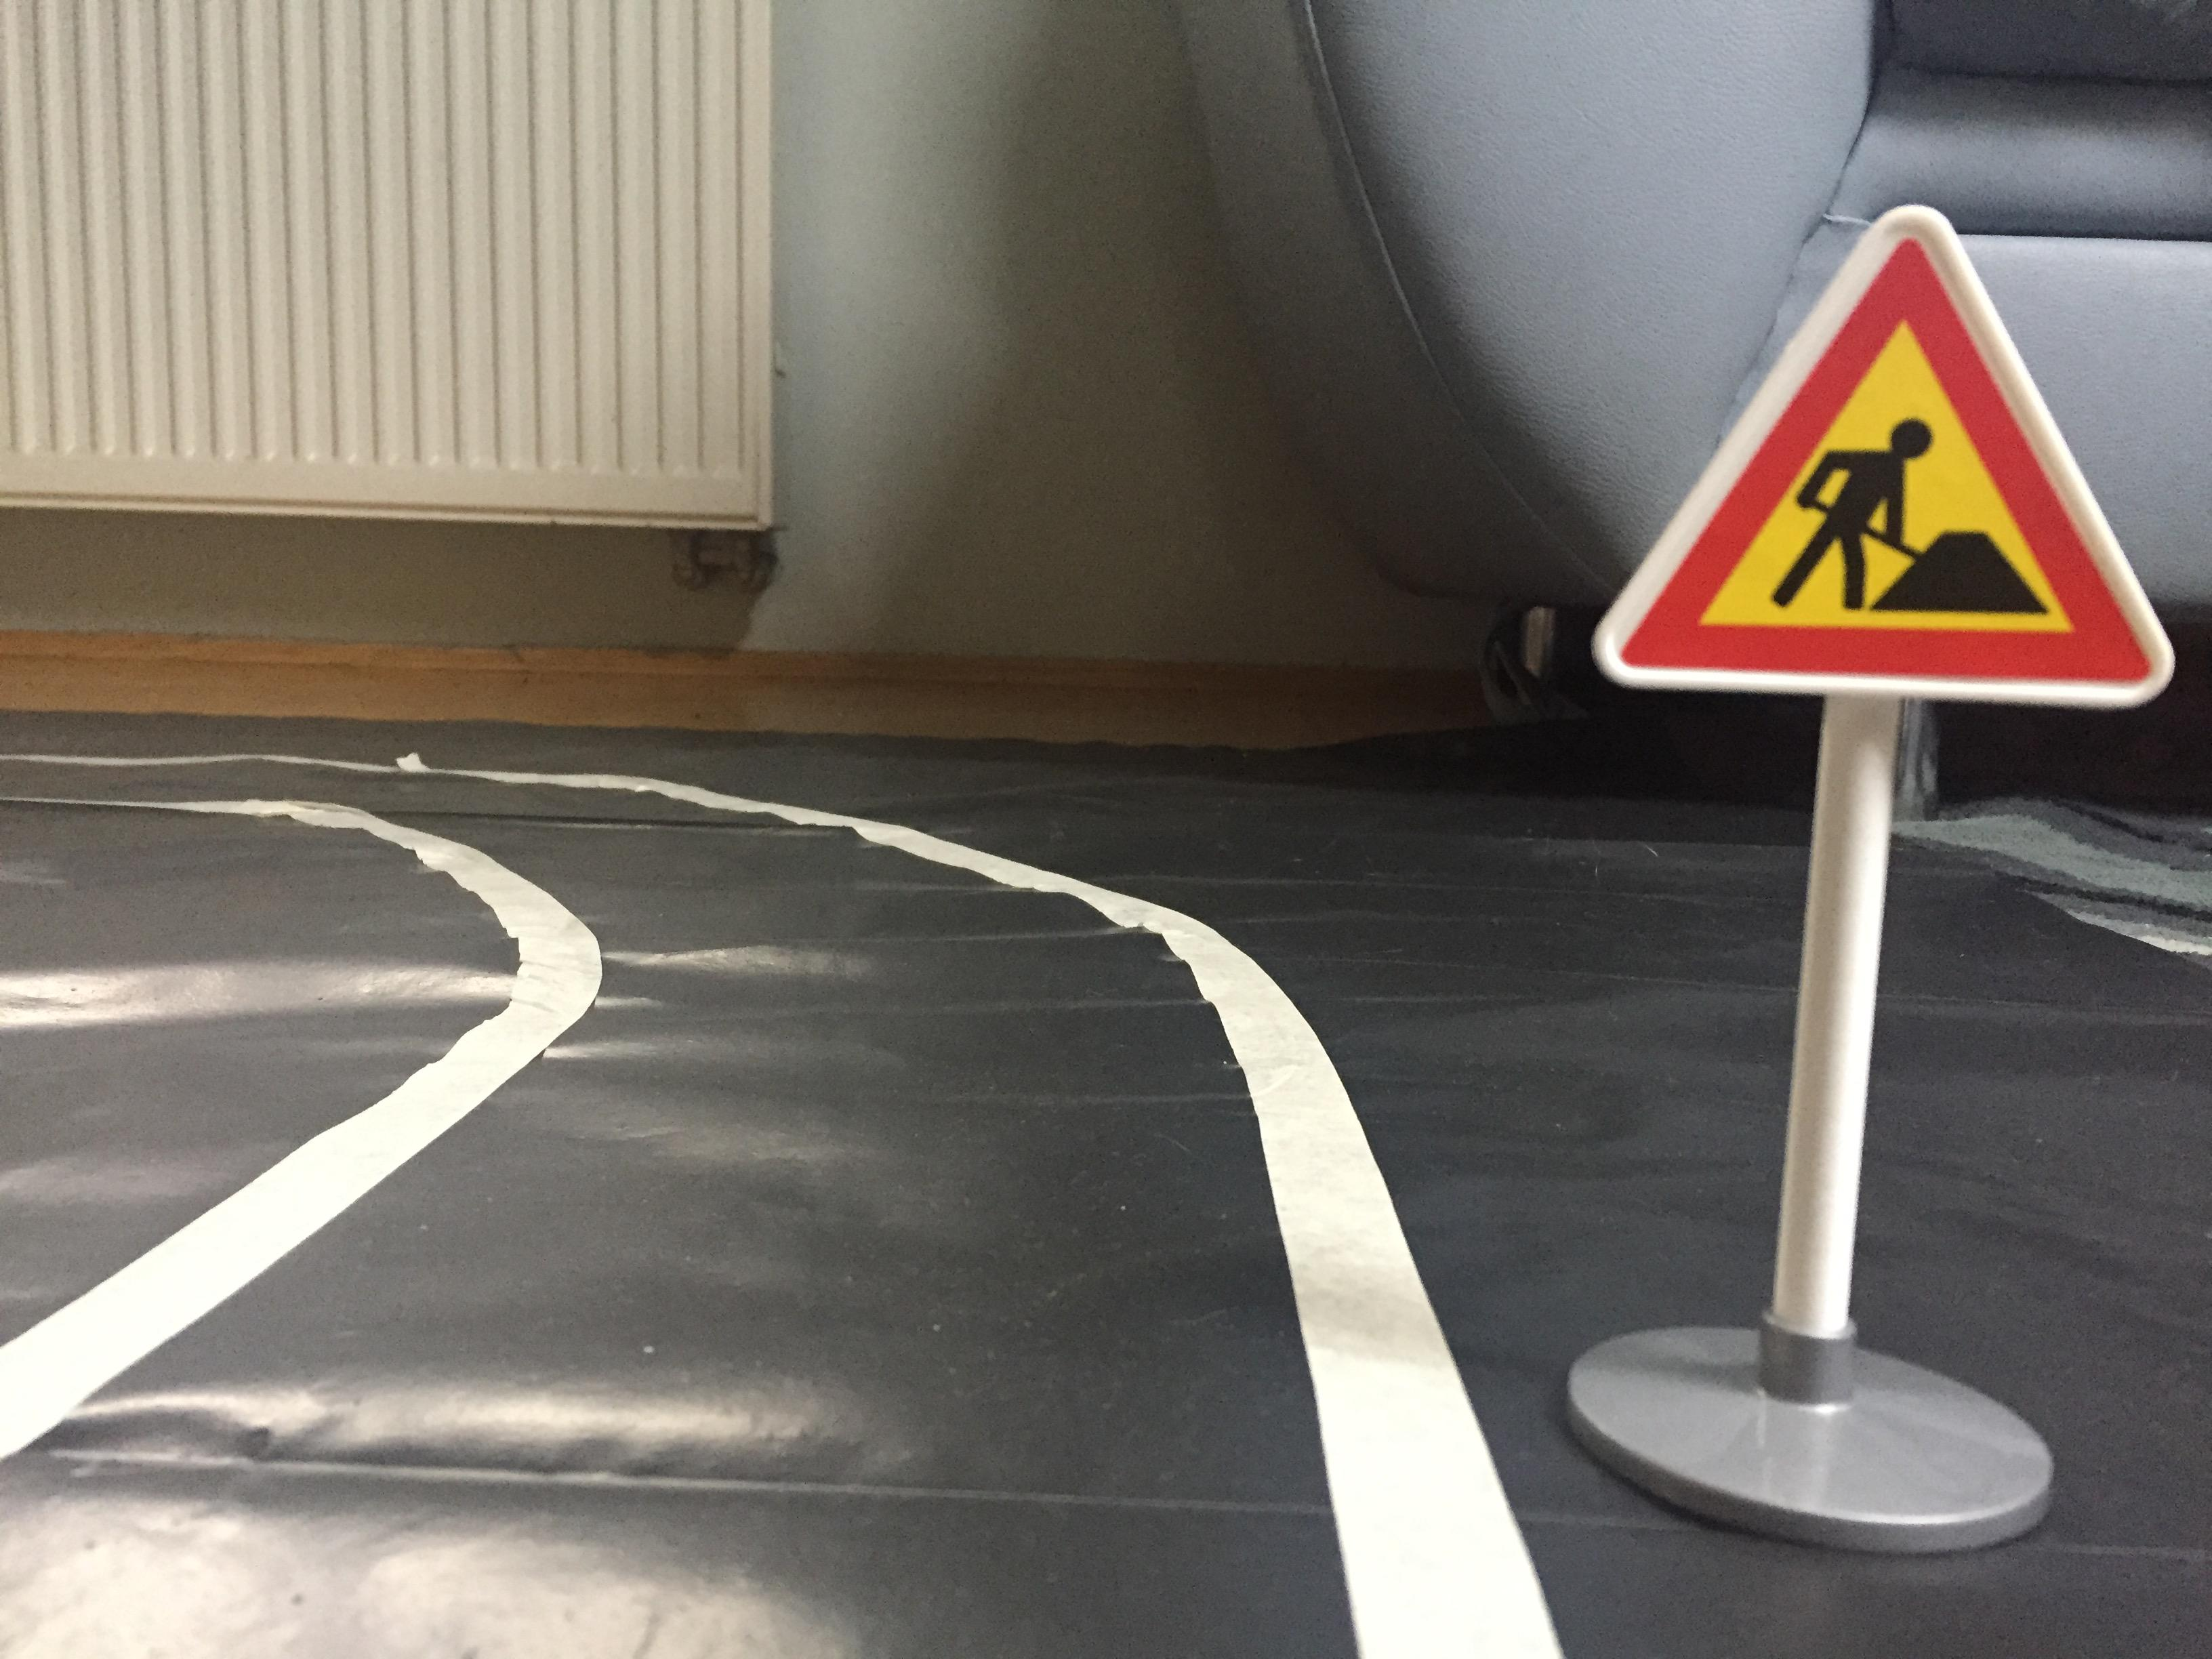work: (1576, 188, 2182, 713)
